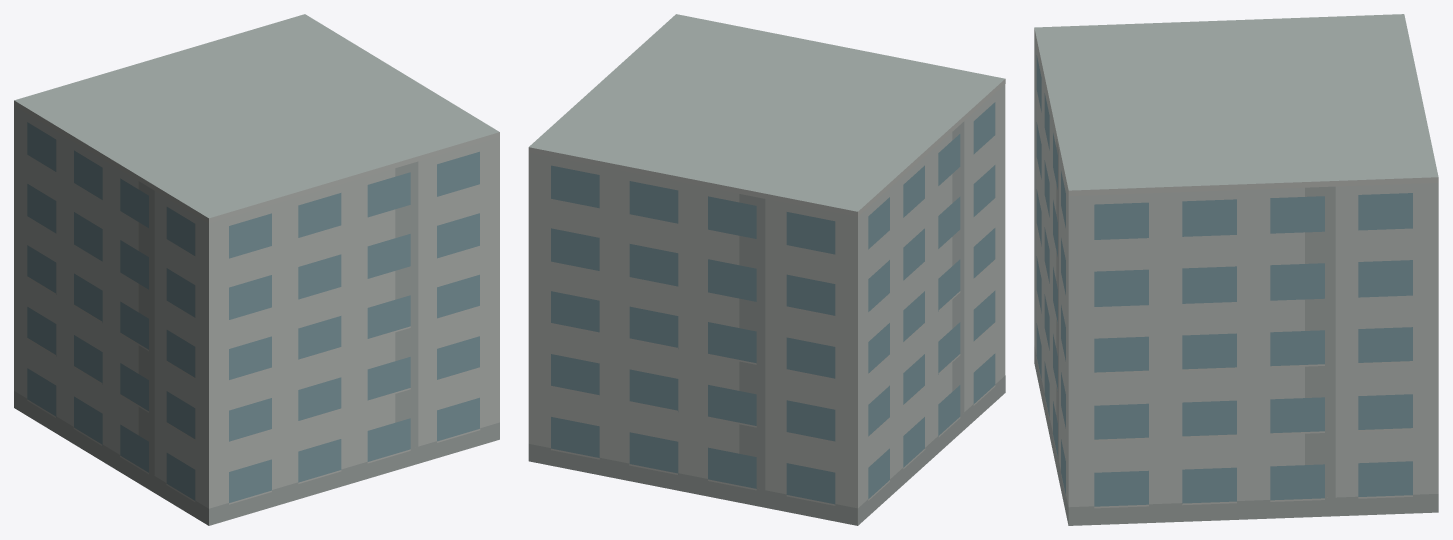
Rendered from survey-upis-32757170.glb.
3 renders of one model, left to right at view 1: azimuth 30°, elevation 25°; view 2: azimuth 150°, elevation 25°; view 3: azimuth 270°, elevation 25°, orthographic. The views are drawn at different scales.
Visible parts, largest first — view 1: survey-upis-32757170.tmp; view 2: survey-upis-32757170.tmp; view 3: survey-upis-32757170.tmp.
Boxes of the visible parts, left/top/right/bottom form: survey-upis-32757170.tmp: left=14, top=14, right=499, bottom=525; survey-upis-32757170.tmp: left=528, top=14, right=1005, bottom=525; survey-upis-32757170.tmp: left=1034, top=14, right=1438, bottom=525.
Bounding box in the file's own units: 16.39 × 14.5 × 15.86.
